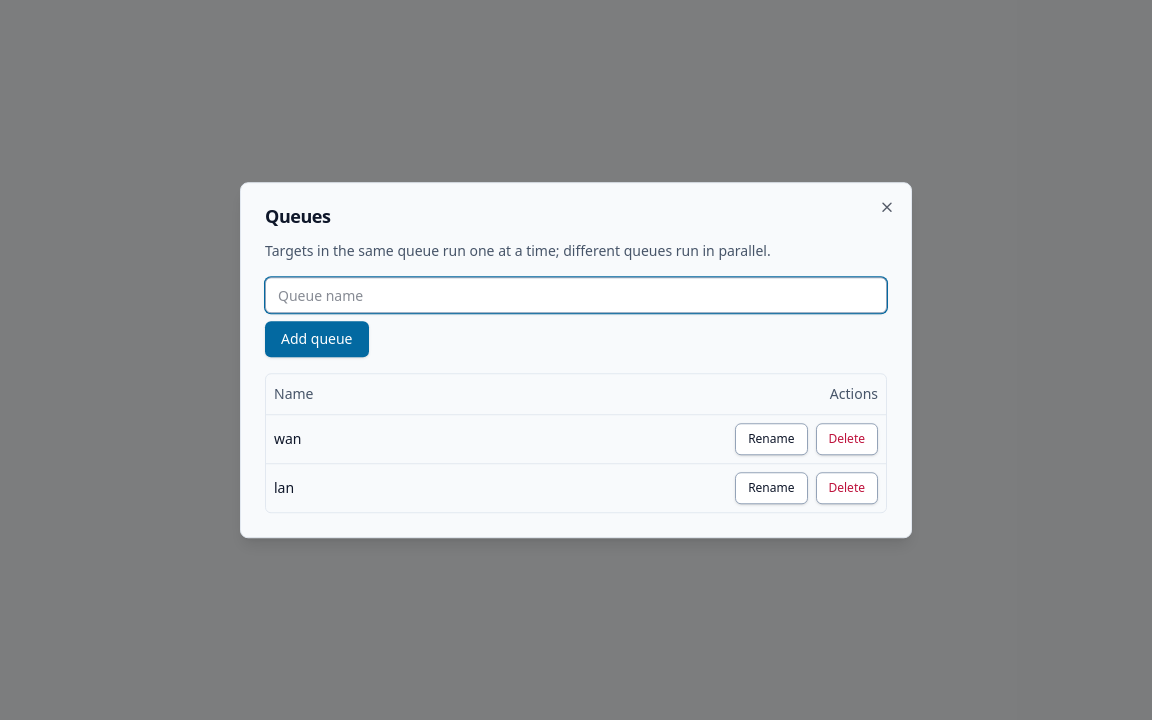
QueuesDialog › shows the in-use error and reopens the confirm dialog on a failed delete
Expected: the text "wan" is shown, [266,414,426,463]
Click the button "Delete" in the row of "wan": (847, 439) [816,423,878,455]
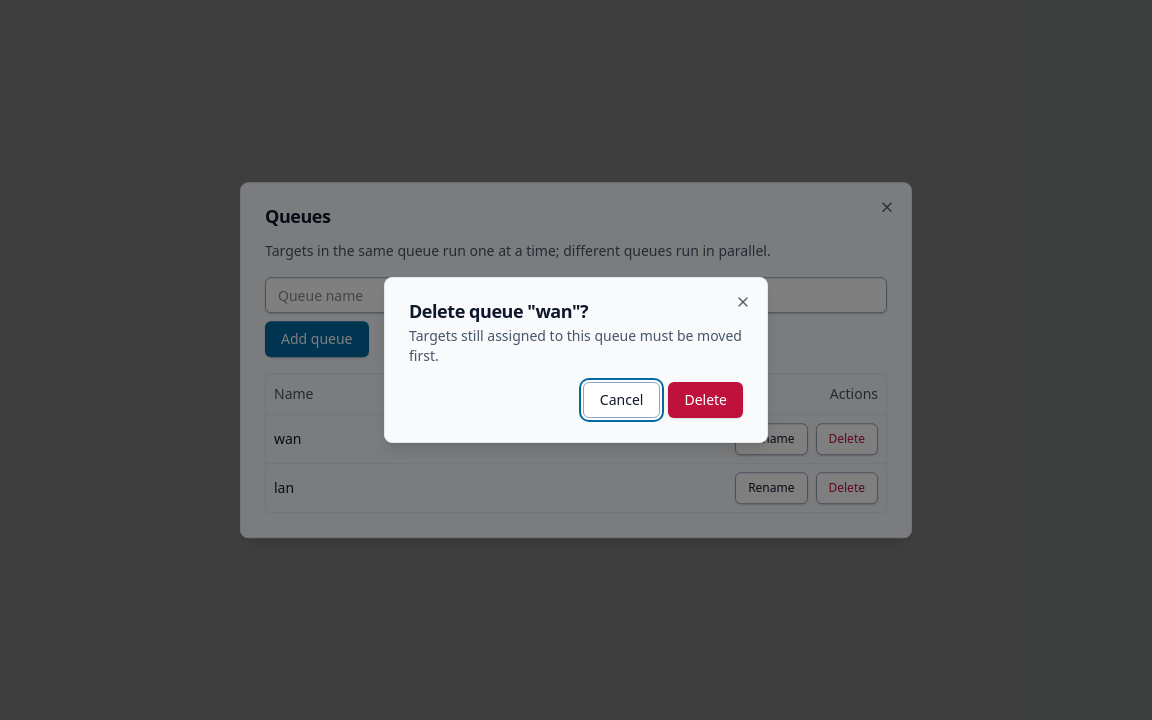
Click the button "Delete": (706, 400) [668,382,743,418]
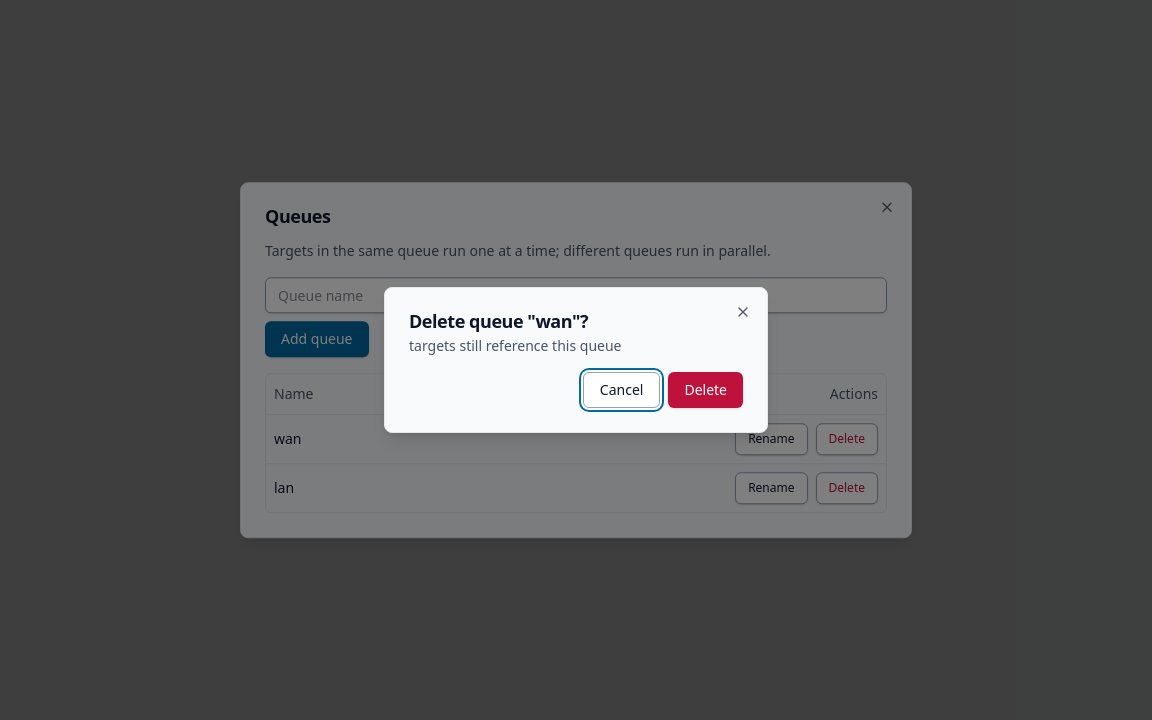
Now the text "targets still reference this queue" is shown, box [409,336,622,355]
